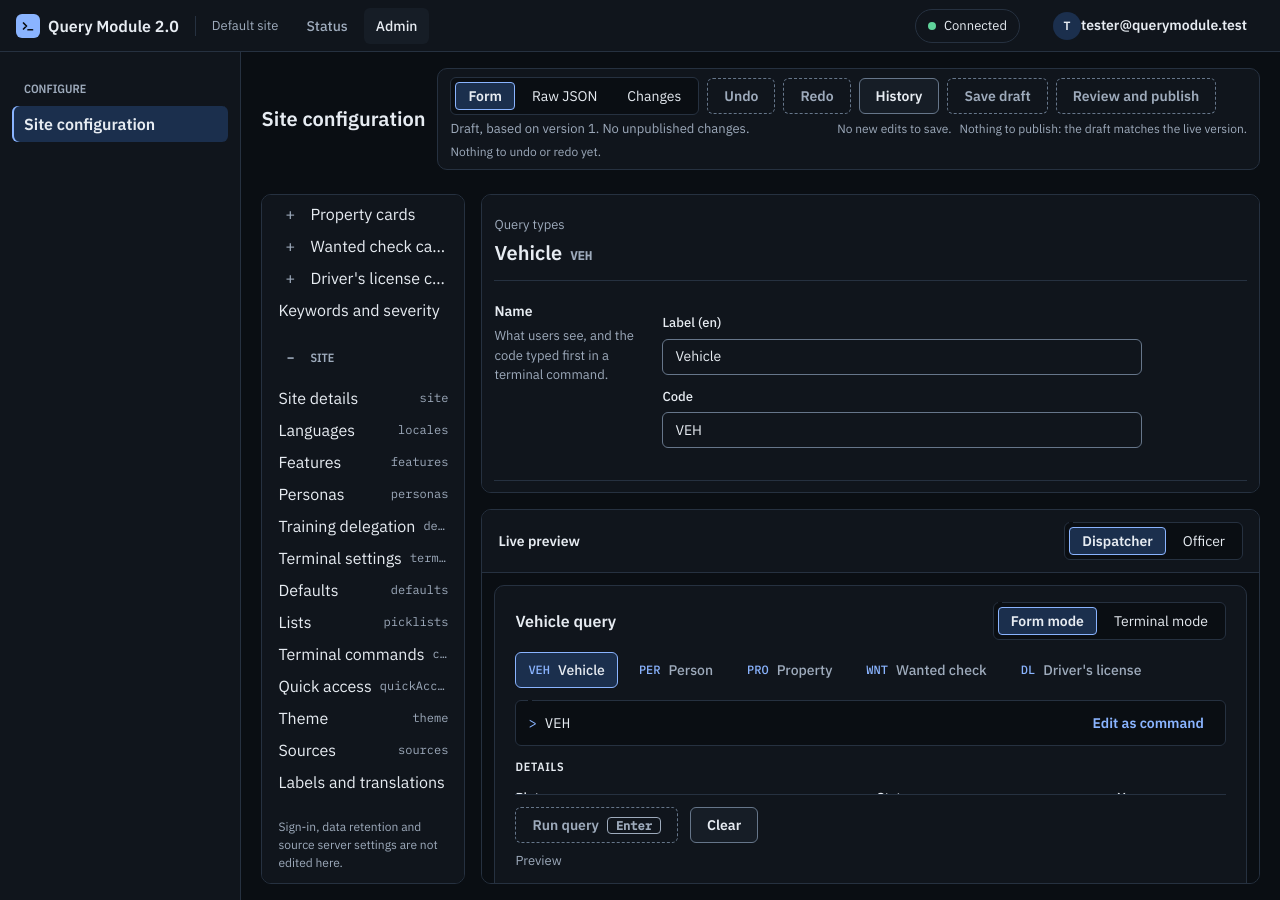
Scenario: Changes view (item 4) › writes a changed setting as a sentence, with the key in a secondary line
The image size is (1280, 900).
(page scrolled)
Expected: the tab "Form" is shown, [456, 82, 515, 110]
Click the list item "Terminal settings terminal" at (363,558), box [270, 542, 456, 574]
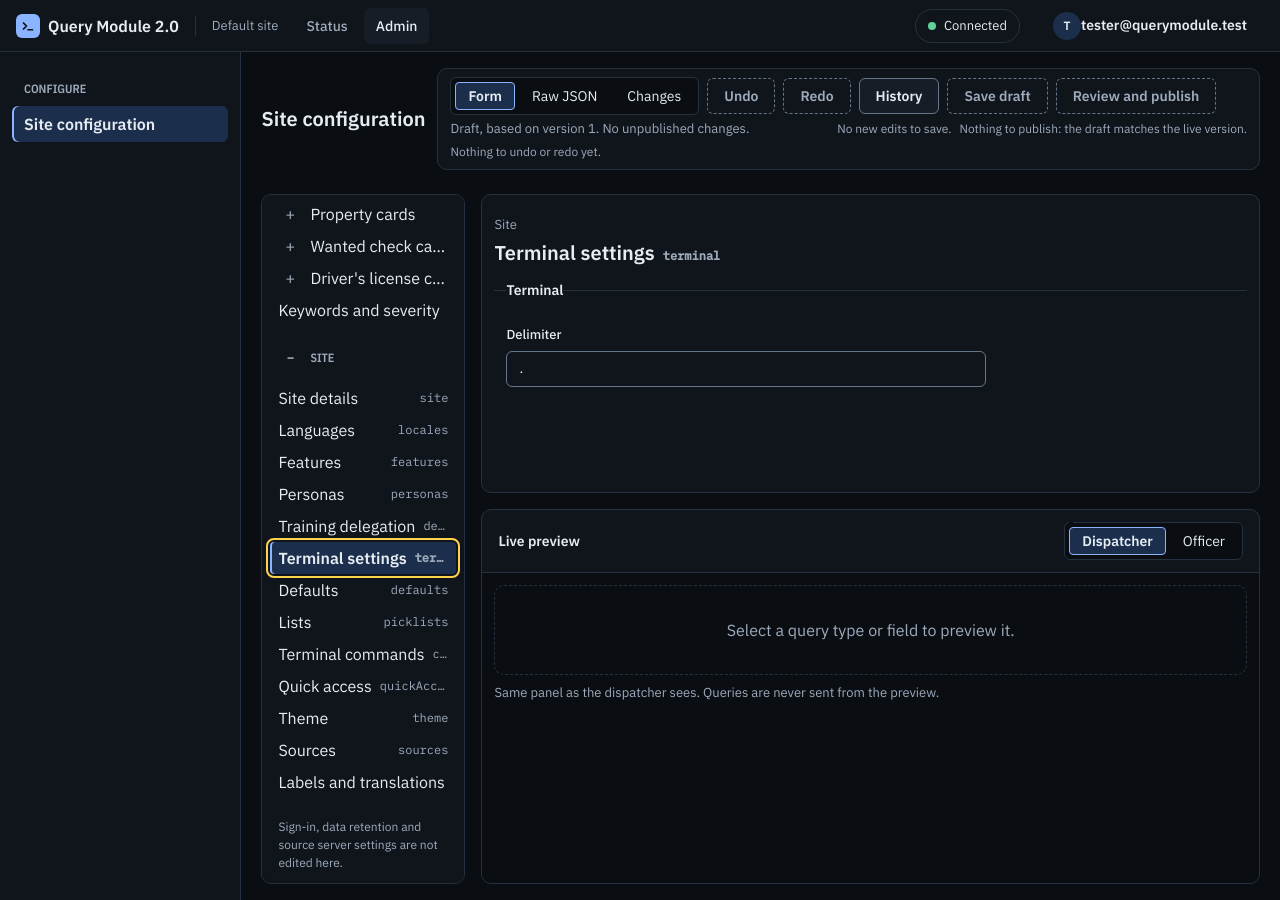
Clear the field labelled "Delimiter" at (746,368), box [506, 350, 986, 386]
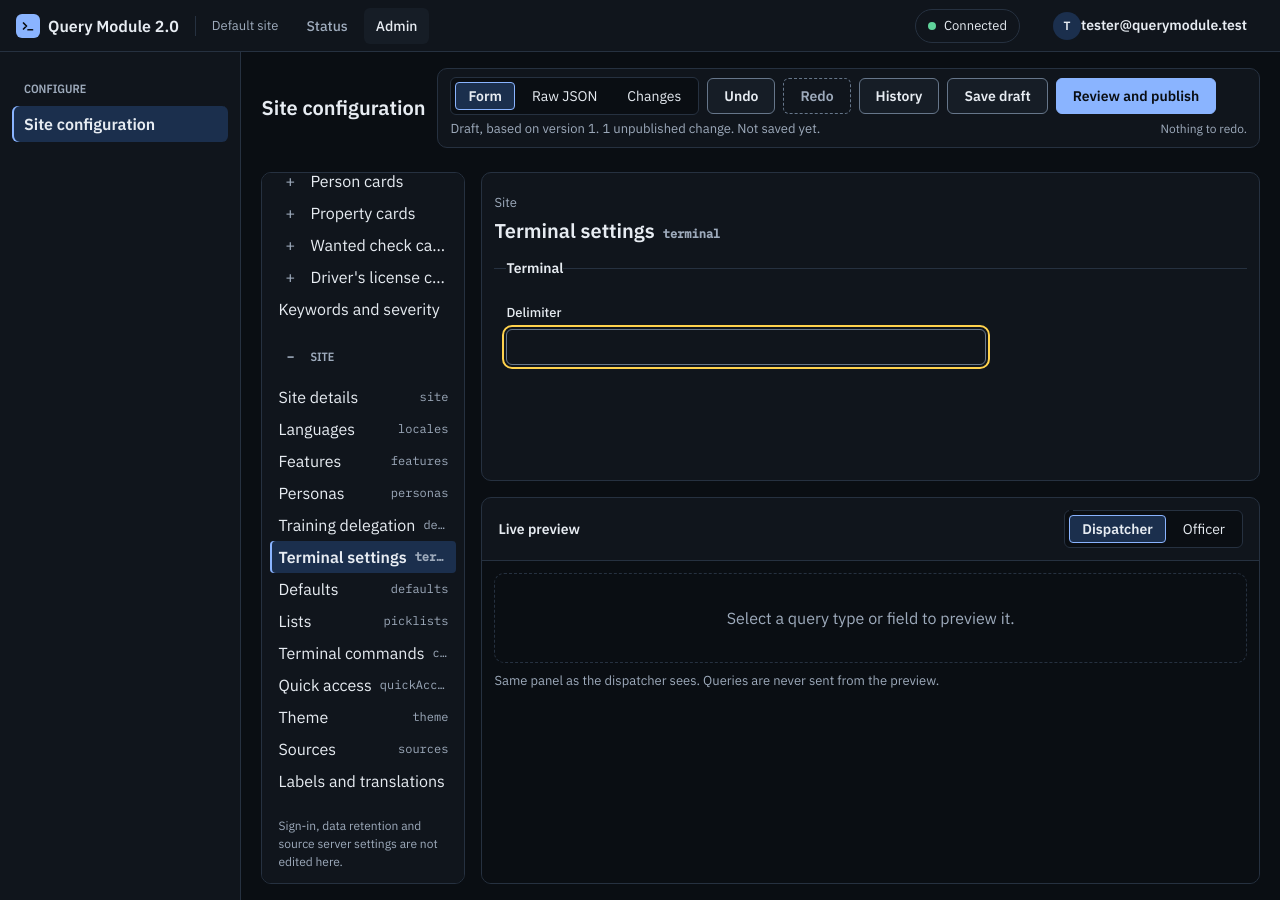
Type "~" into the field labelled "Delimiter" at (746,346), box [506, 328, 986, 364]
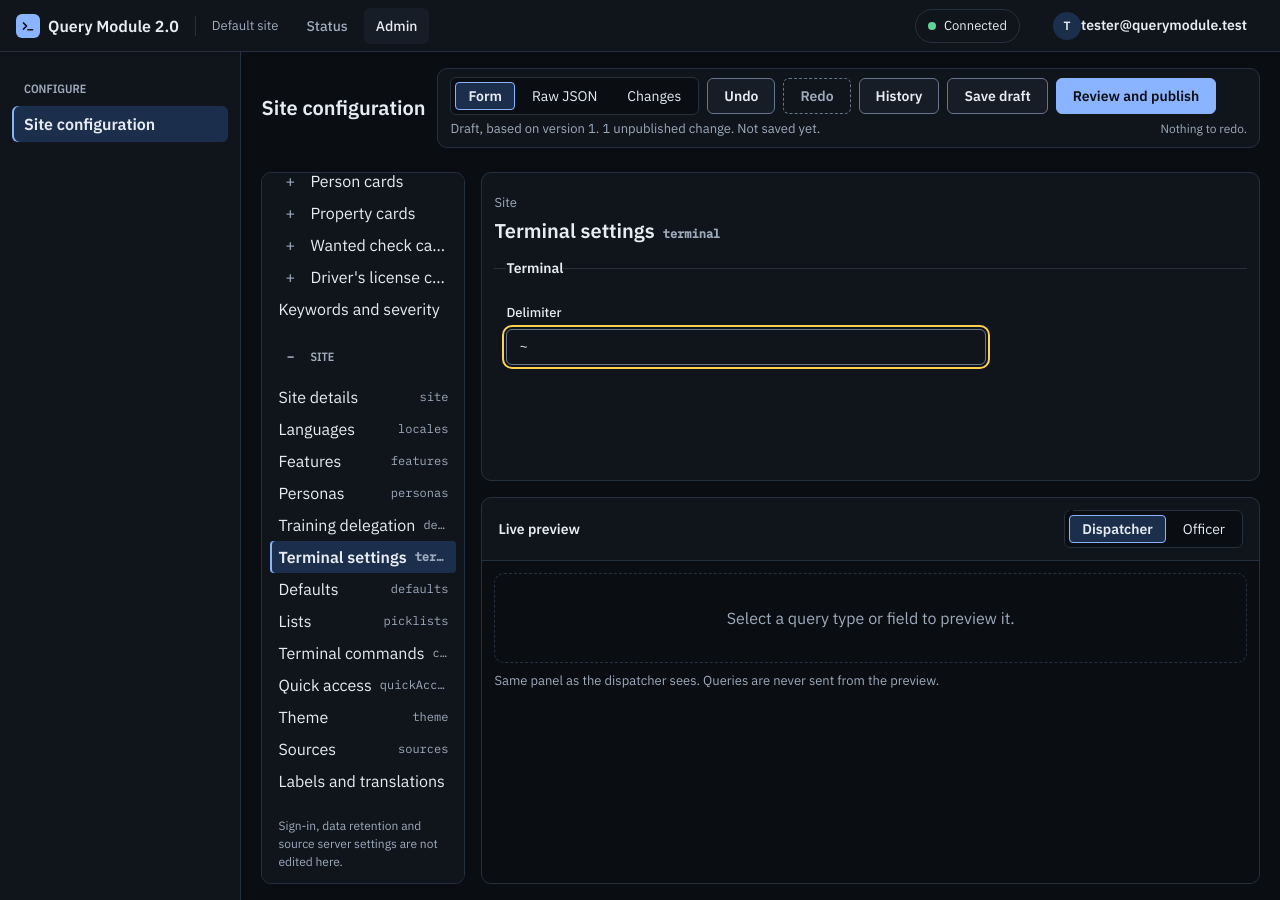
Click the tab "Changes" at (654,96), box [614, 82, 694, 110]
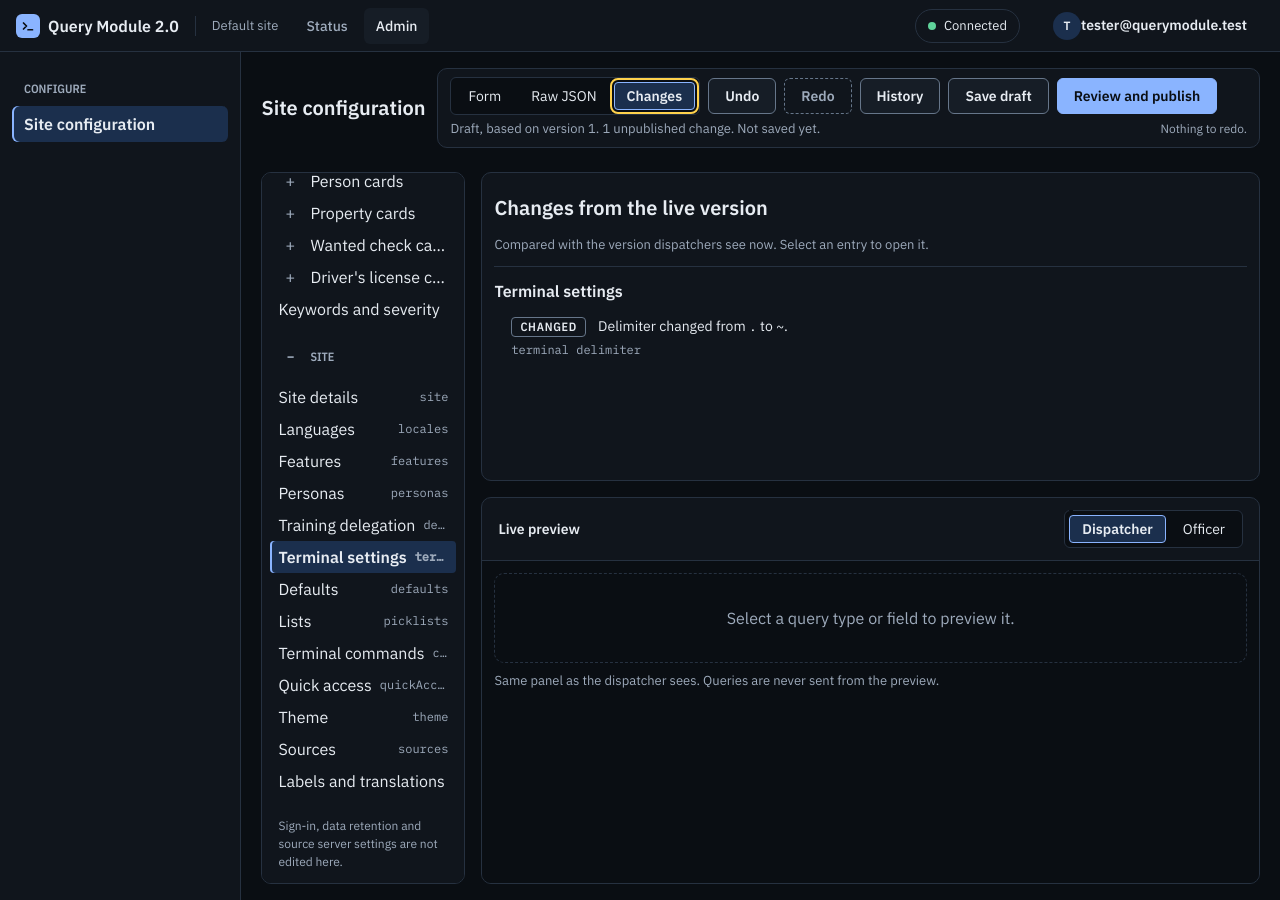
Expected: the button "Changed Delimiter changed from . to ~. terminal delimiter" is shown, [494, 311, 1247, 364]
Expected: the text "~" is shown, [776, 318, 784, 335]
